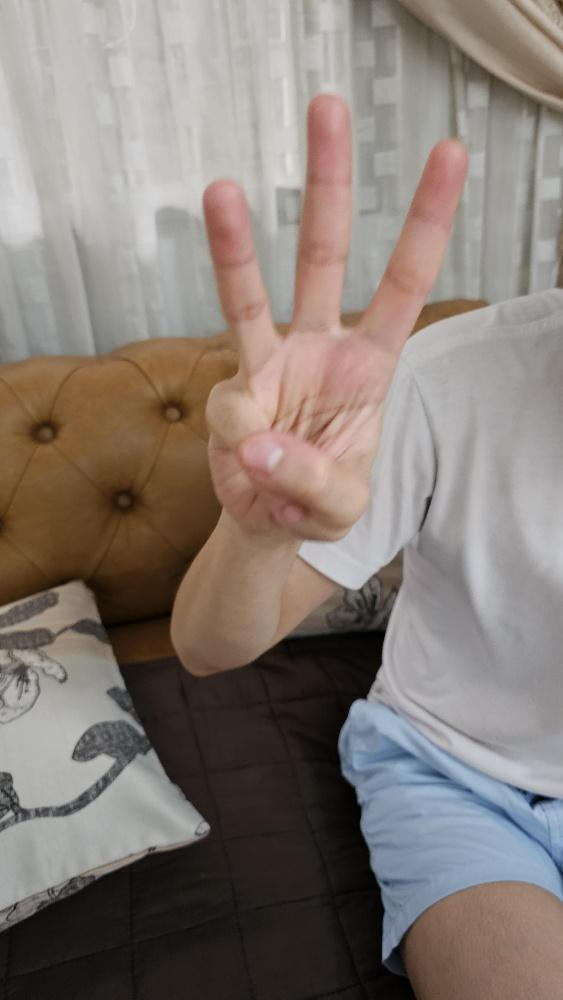w: (199, 90, 471, 544)
